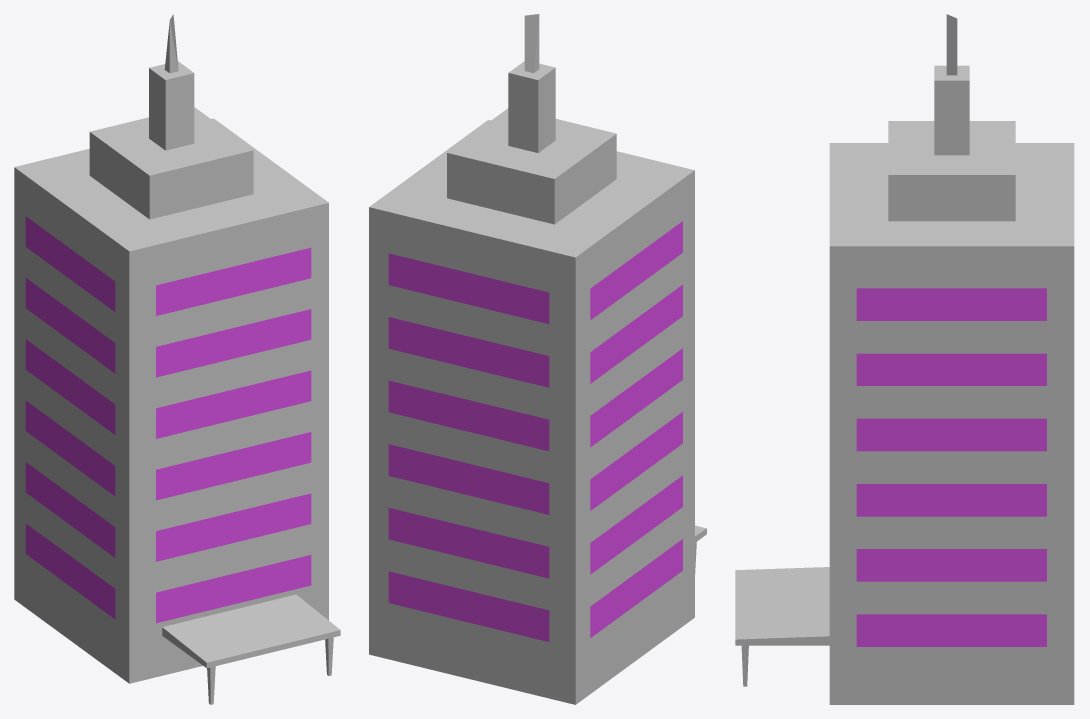
The model's file is building_tall_purple.glb.
3 renders of one model, left to right at view 1: azimuth 30°, elevation 25°; view 2: azimuth 150°, elevation 25°; view 3: azimuth 270°, elevation 25°, orthographic. The views are drawn at different scales.
Visible parts, largest first — view 1: building_tall; view 2: building_tall; view 3: building_tall.
Boxes of the visible parts, <box> form: building_tall: <box>14,14,340,704</box>; building_tall: <box>369,14,706,704</box>; building_tall: <box>735,14,1074,704</box>.
Bounding box in the file's own units: 9.32 × 26.57 × 12.85.
Materials: 1 (1 with a texture image).
